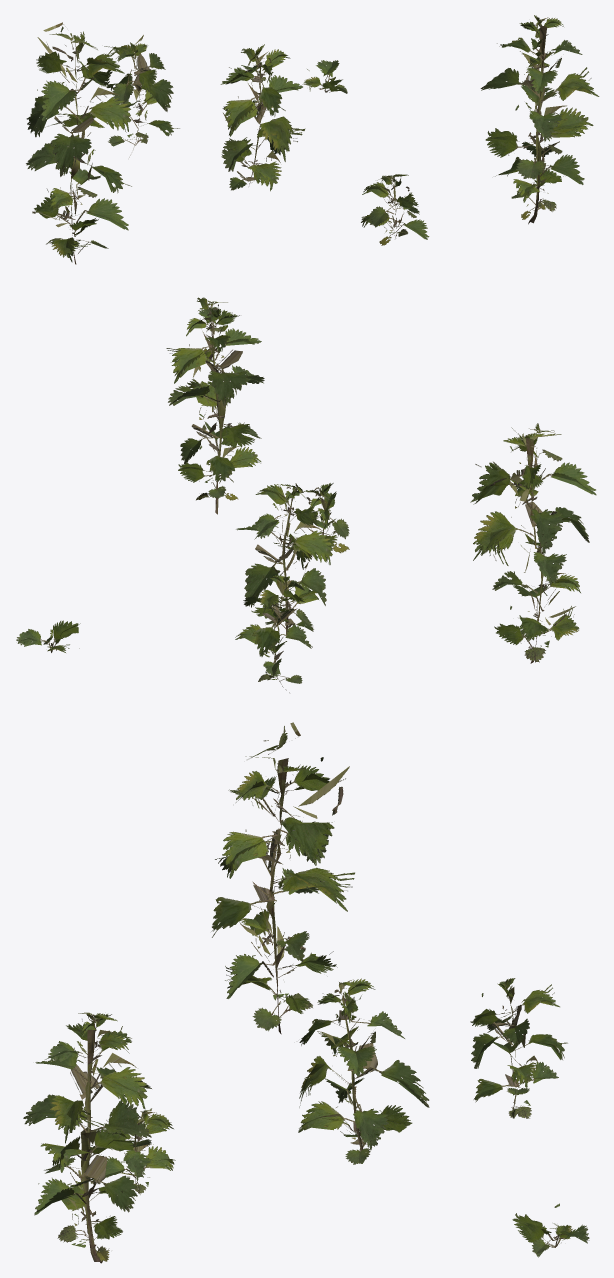
File: weed_b.glb
3 renders of one model, top to bottom at view 1: azimuth 30°, elevation 25°; view 2: azimuth 150°, elevation 25°; view 3: azimuth 270°, elevation 25°, orthographic. The views are drawn at different scales.
Visible parts, largest first — view 1: weed_b; view 2: weed_b; view 3: weed_b.
Boxes of the visible parts, x1,y1,x2,y2 form: weed_b: (26,15,599,264); weed_b: (16,297,596,692); weed_b: (23,722,589,1263).
Size of the model in its own units: 0.4652 by 0.215 by 0.386.
Materials: 1 (1 with a texture image).
